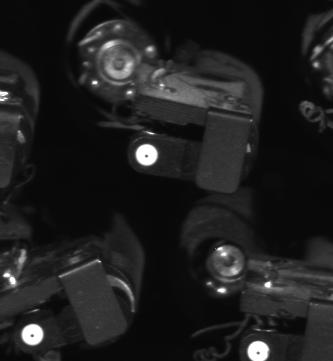fiber: (17, 319, 49, 350), (132, 139, 162, 172), (241, 336, 275, 361)
